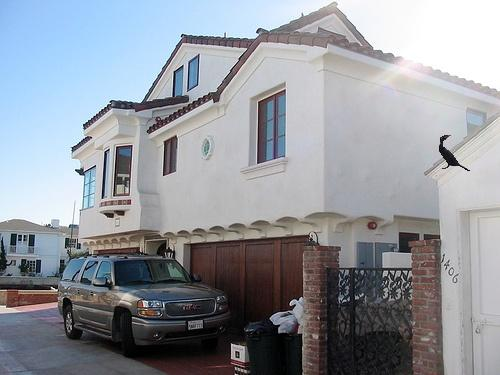tampered: (440, 136, 470, 171)
